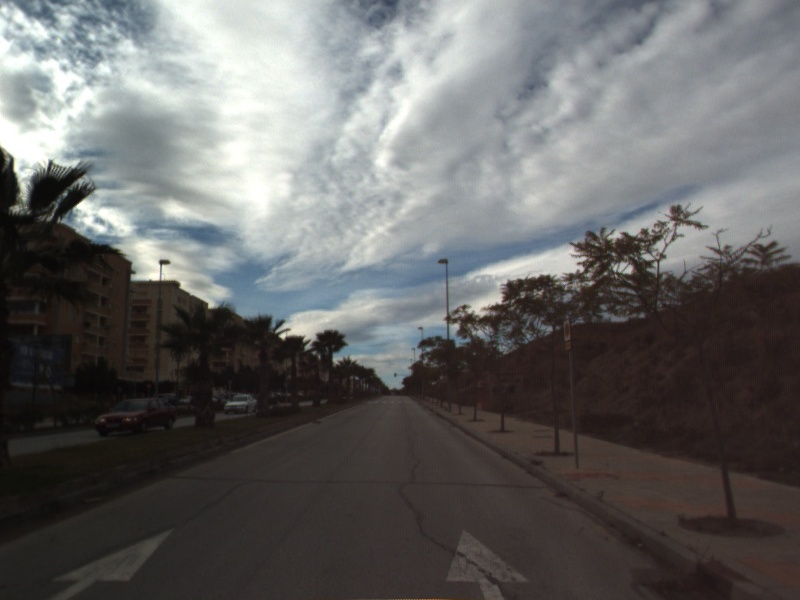STRAIGHT: (42, 524, 179, 600), (443, 527, 534, 600)
